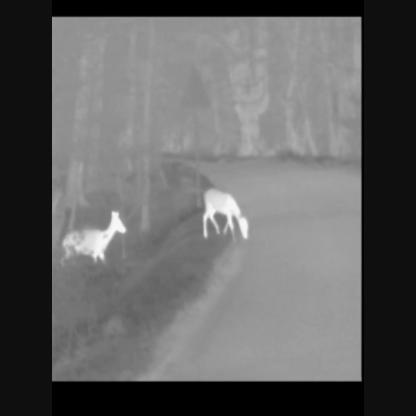rehkitze: (61, 211, 127, 266), (202, 186, 253, 242)
